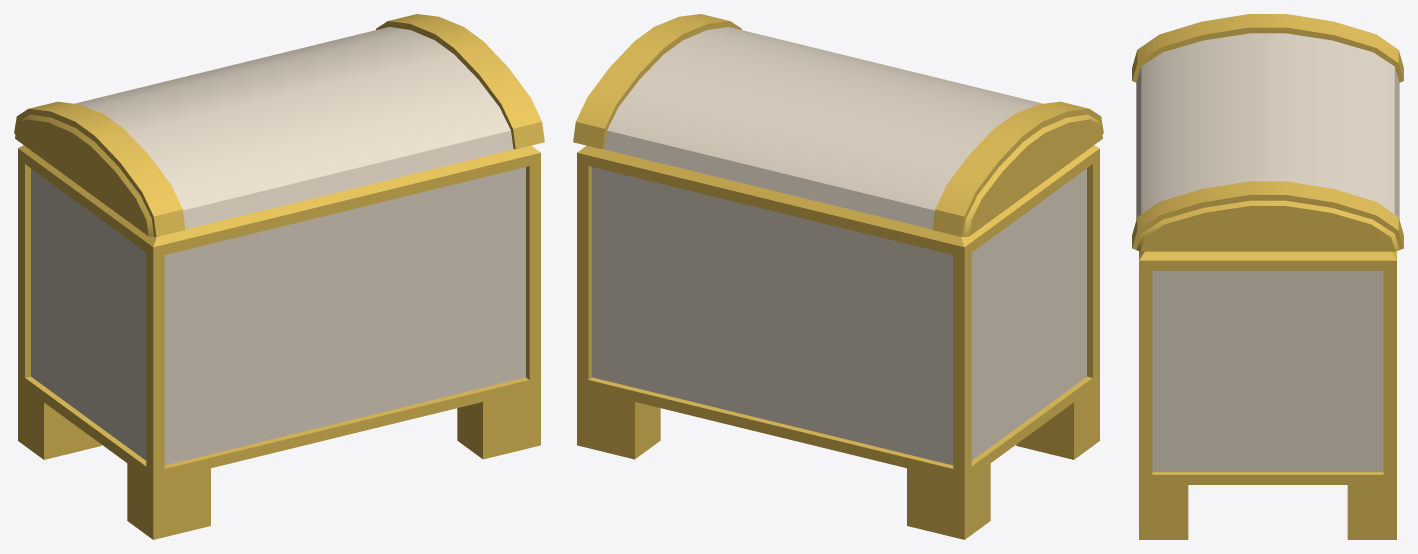
File: egy_chest1.fbx
The picture shows the model from 3 angles, left to right: view 1: azimuth 30°, elevation 25°; view 2: azimuth 150°, elevation 25°; view 3: azimuth 270°, elevation 25°; orthographic projection. The views are drawn at different scales.
Parts seen in each view (by area): view 1: chest1; view 2: chest1; view 3: chest1.
Boxes of the visible parts, left/top/right/bottom form: chest1: left=14, top=14, right=544, bottom=539; chest1: left=573, top=14, right=1103, bottom=539; chest1: left=1132, top=14, right=1403, bottom=539.
Bounding box in the file's own units: 0.9594 × 0.8384 × 0.598.
